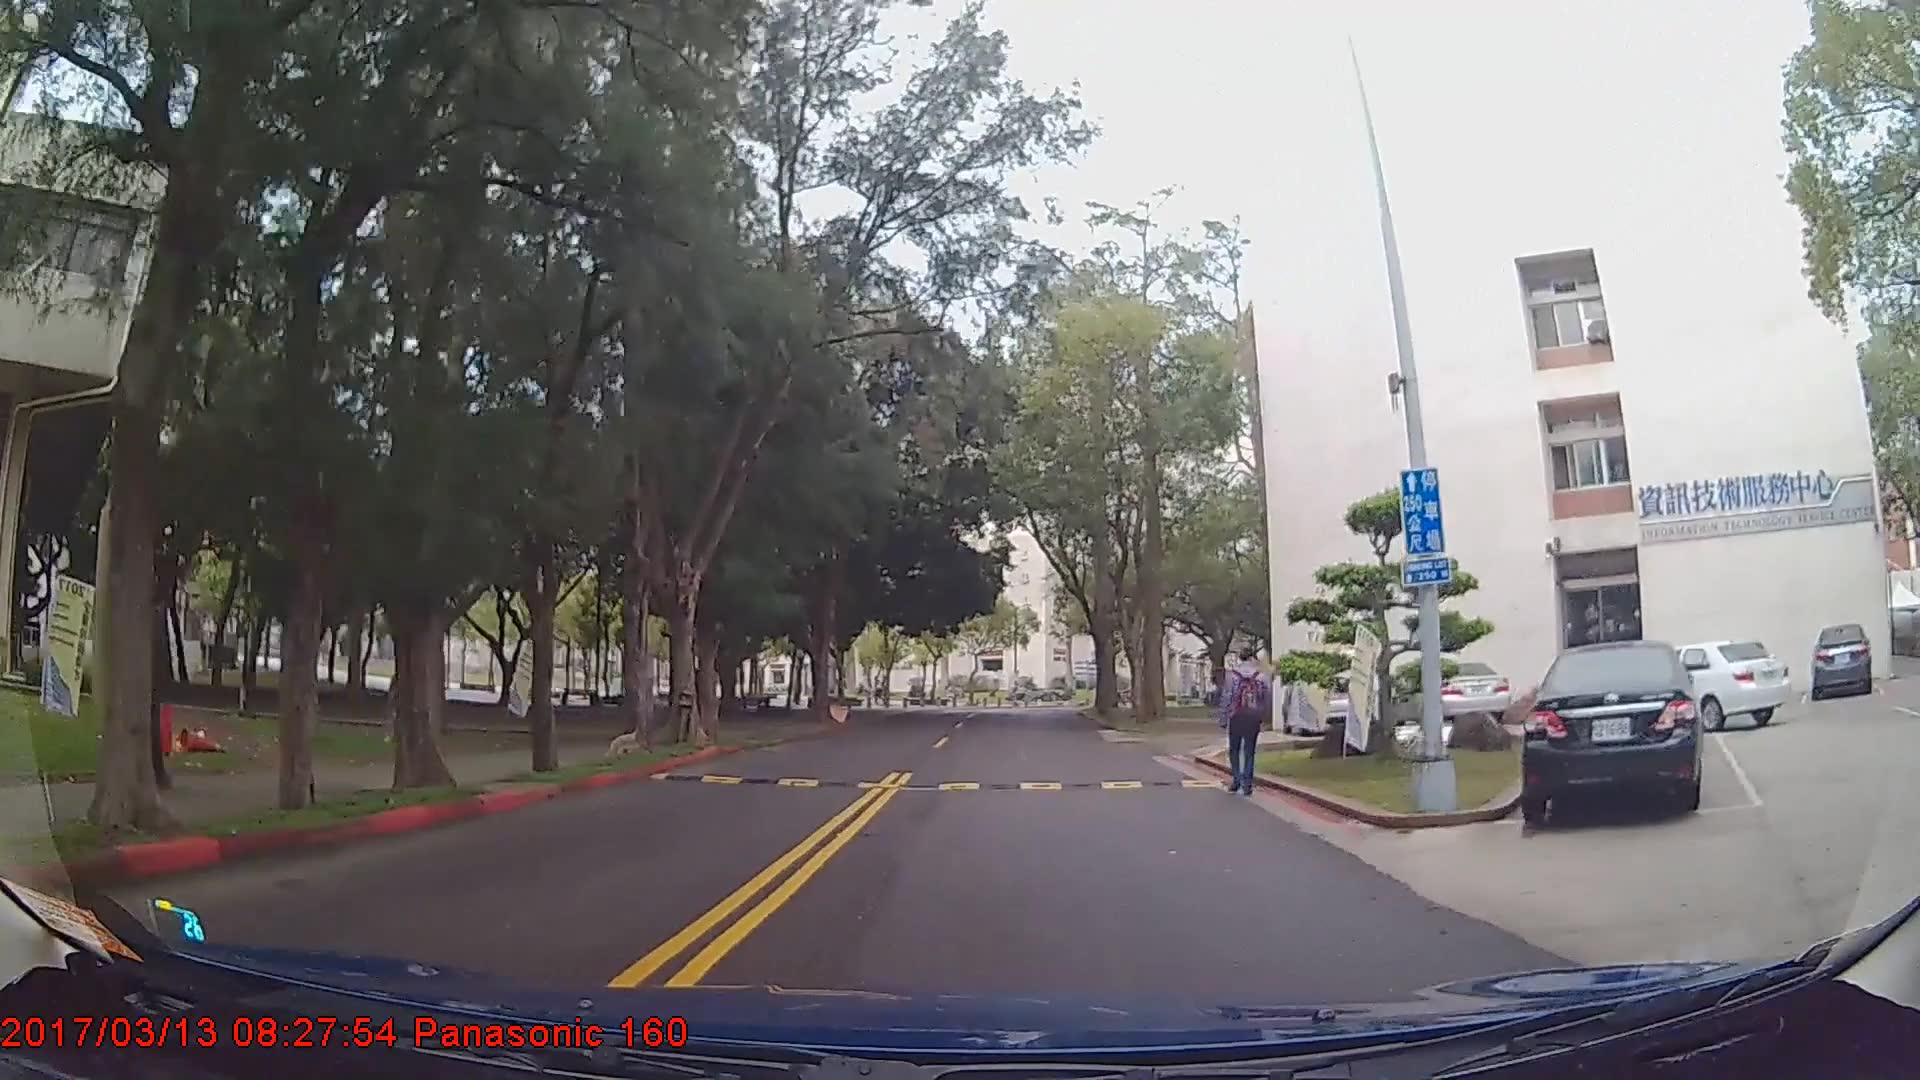pedestrian: (1214, 651, 1281, 803)
vehicle: (1524, 639, 1704, 828), (1638, 636, 1789, 730), (1391, 656, 1511, 726), (1809, 623, 1871, 701)
